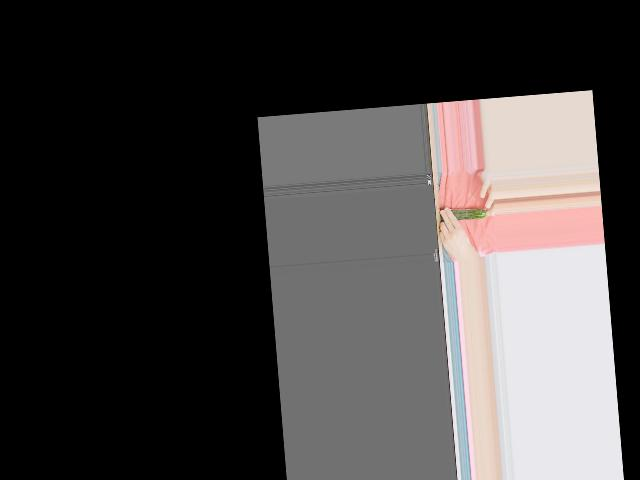cucumber: (450, 207, 487, 221)
